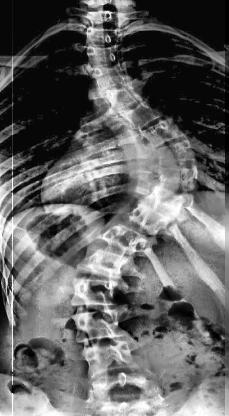Vertebrae: (76, 341, 138, 373), (65, 277, 127, 309), (72, 312, 136, 342), (146, 162, 206, 192), (74, 249, 132, 279), (97, 225, 151, 257), (86, 66, 140, 92), (102, 84, 154, 110), (149, 142, 205, 166), (139, 120, 187, 148), (124, 206, 170, 235), (146, 186, 190, 214), (120, 104, 170, 128), (80, 38, 122, 66), (82, 7, 124, 26), (84, 24, 124, 42)
